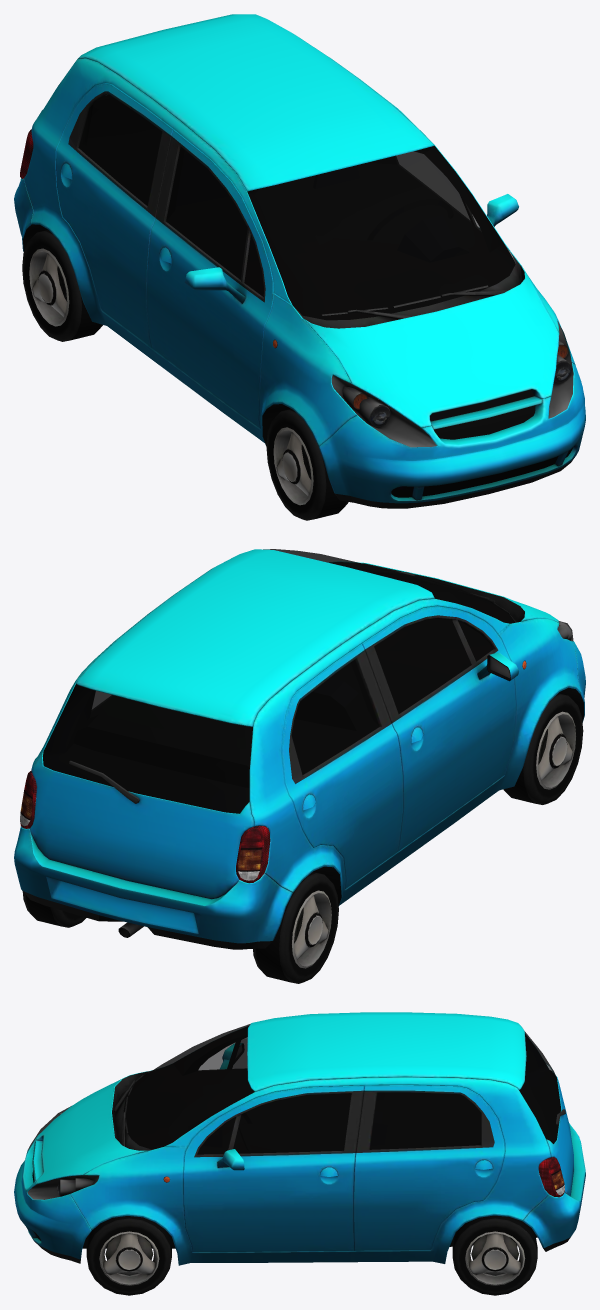
The model's file is pc_compact.glb.
The picture shows the model from 3 angles, top to bottom: view 1: azimuth 30°, elevation 25°; view 2: azimuth 150°, elevation 25°; view 3: azimuth 270°, elevation 25°; orthographic projection. The views are drawn at different scales.
Visible parts, largest first — view 1: Compact Body_Body_0, Compact Body_Glass_0, Wheel_C003_Wheel_0, Wheel_C002_Wheel_0, Compact Body_Optics_0; view 2: Compact Body_Body_0, Compact Body_Glass_0, Wheel_C002_Wheel_0, Wheel_C003_Wheel_0, Compact Body_Optics_0, Wheel_C001_Wheel_0; view 3: Compact Body_Body_0, Compact Body_Glass_0, Wheel_C001_Wheel_0, Wheel_C_Wheel_0, Compact Body_Optics_0.
Part boxes in pixels (x1=…): Compact Body_Body_0: x1=14, y1=14, x2=585, y2=508; Compact Body_Glass_0: x1=58, y1=85, x2=573, y2=447; Wheel_C003_Wheel_0: x1=266, y1=409, x2=348, y2=520; Wheel_C002_Wheel_0: x1=22, y1=229, x2=102, y2=341; Compact Body_Optics_0: x1=20, y1=129, x2=571, y2=426; Compact Body_Body_0: x1=14, y1=549, x2=585, y2=949; Compact Body_Glass_0: x1=43, y1=549, x2=573, y2=813; Wheel_C002_Wheel_0: x1=253, y1=872, x2=338, y2=983; Wheel_C003_Wheel_0: x1=503, y1=693, x2=583, y2=804; Compact Body_Optics_0: x1=20, y1=660, x2=526, y2=883; Wheel_C001_Wheel_0: x1=22, y1=891, x2=86, y2=927; Compact Body_Body_0: x1=14, y1=1012, x2=585, y2=1265; Compact Body_Glass_0: x1=27, y1=1024, x2=560, y2=1199; Wheel_C001_Wheel_0: x1=452, y1=1215, x2=537, y2=1295; Wheel_C_Wheel_0: x1=86, y1=1216, x2=171, y2=1295; Compact Body_Optics_0: x1=57, y1=1157, x2=564, y2=1197.
Bounding box in the file's own units: 1.61 × 1.32 × 3.26.
4 materials, 3 textured.
